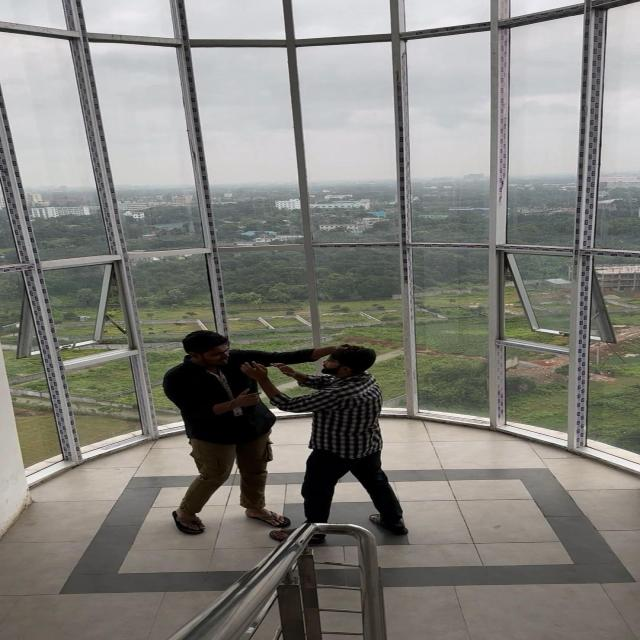fight: (138, 328, 422, 555)
